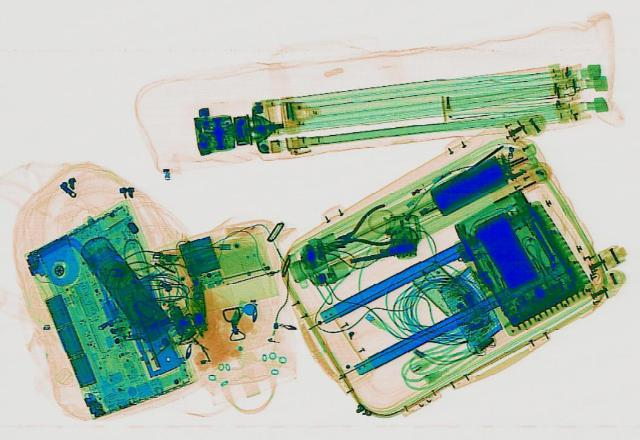Pliers: (318, 201, 412, 255)
